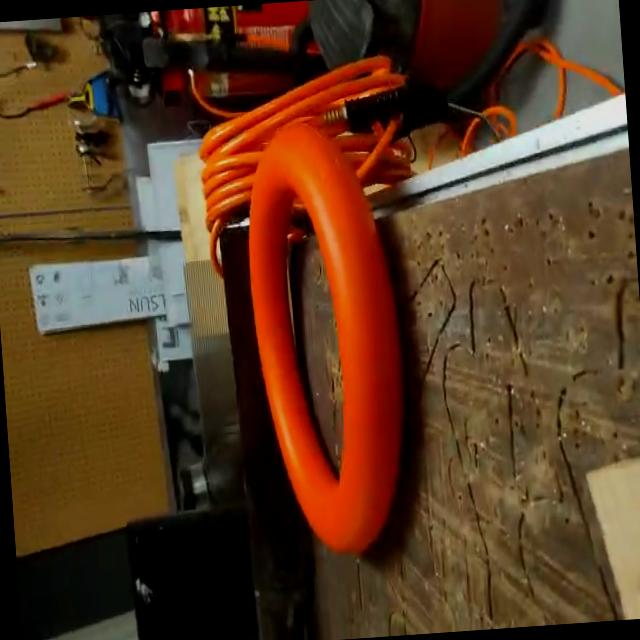note: (234, 116, 426, 566)
